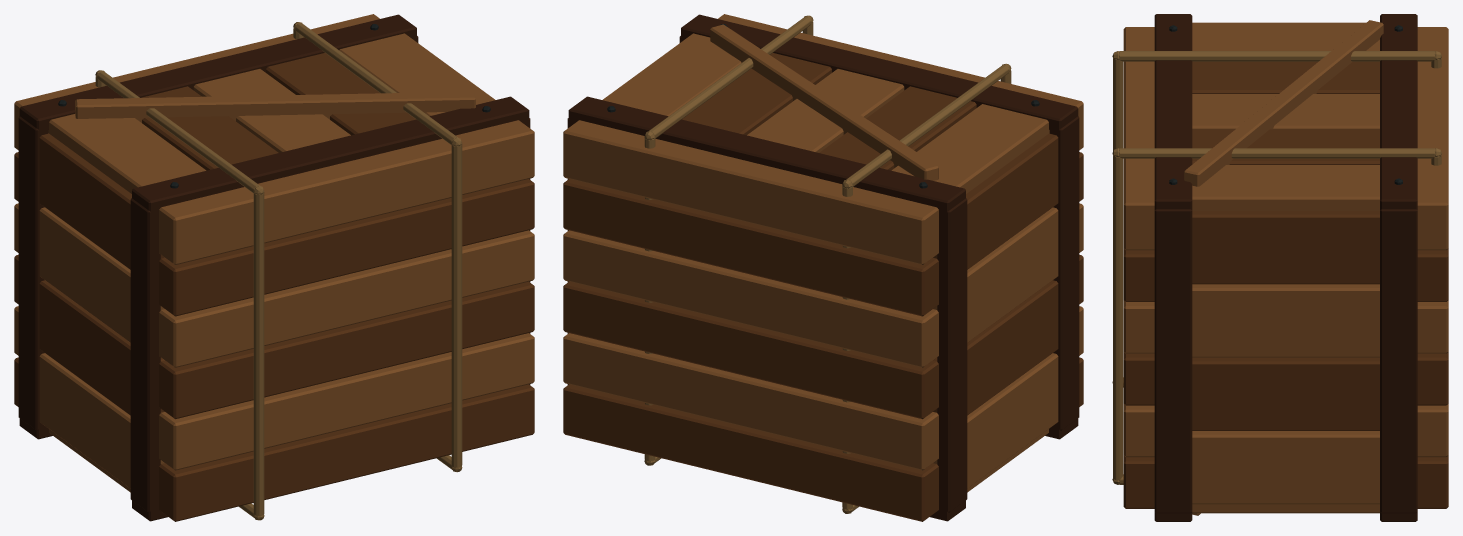
File: SM_AskirSupplyCrate.obj
3 renders of one model, left to right at view 1: azimuth 30°, elevation 25°; view 2: azimuth 150°, elevation 25°; view 3: azimuth 270°, elevation 25°, orthographic.
Parts seen in each view (by area): view 1: SM_AskirSupplyCrate; view 2: SM_AskirSupplyCrate; view 3: SM_AskirSupplyCrate.
Boxes of the visible parts, x1,y1,x2,y2 form: SM_AskirSupplyCrate: [14, 14, 534, 521]; SM_AskirSupplyCrate: [563, 14, 1083, 521]; SM_AskirSupplyCrate: [1112, 14, 1448, 521].
Bounding box in the file's own units: 1.01 × 0.8561 × 0.7605.
